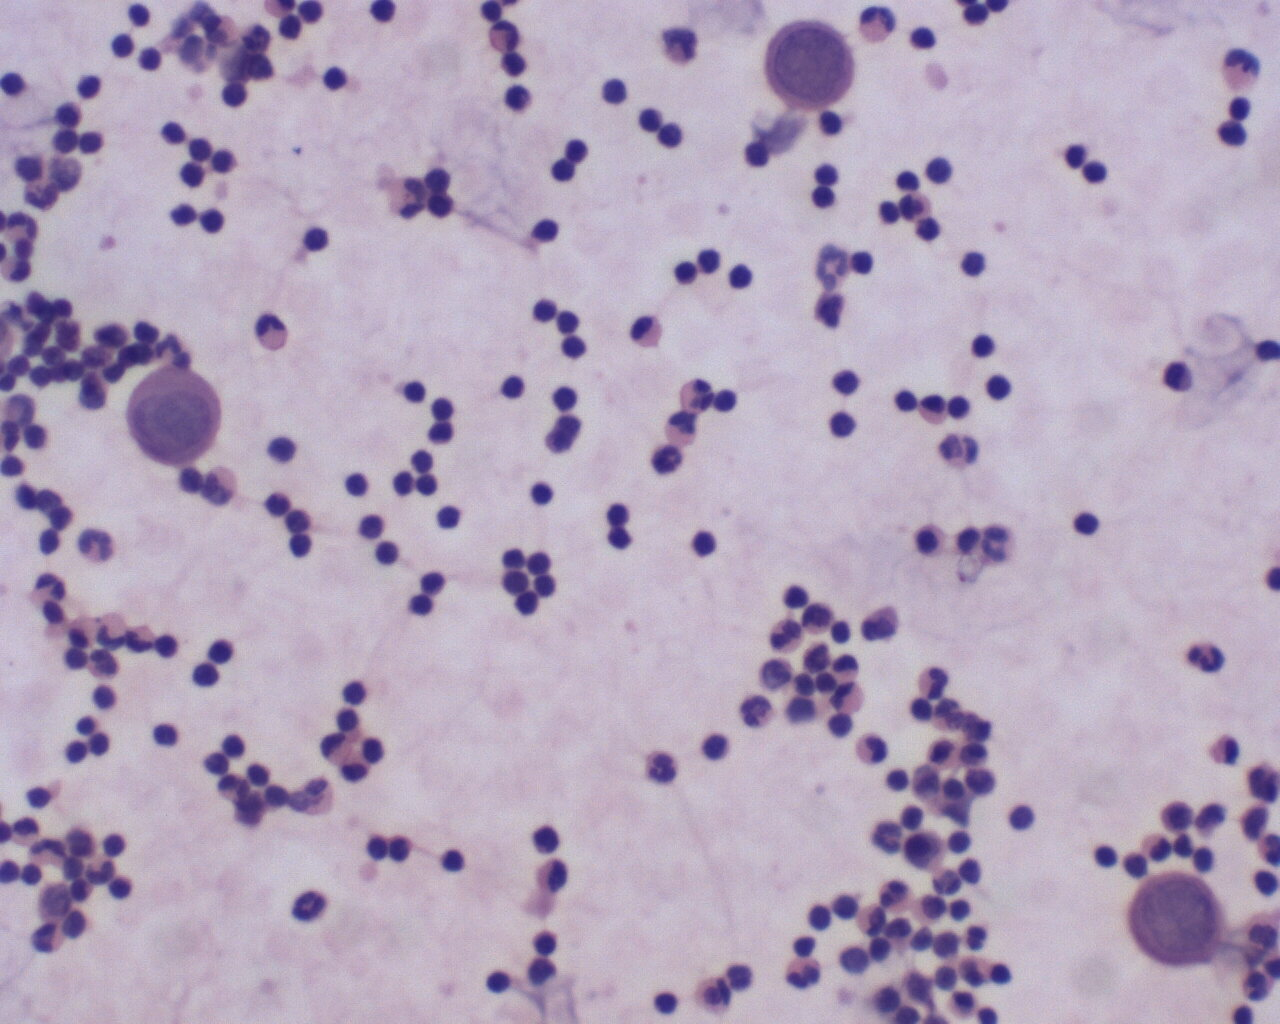ab: (1120, 870, 1229, 972), (126, 366, 228, 471), (760, 16, 854, 111)
lymph: (299, 222, 341, 263), (829, 362, 867, 402), (523, 475, 561, 516), (954, 247, 991, 286), (312, 59, 351, 95), (187, 658, 226, 695), (369, 535, 408, 571), (527, 216, 566, 251), (1003, 796, 1039, 834), (963, 329, 1000, 365), (1071, 507, 1104, 541), (598, 75, 633, 108), (399, 378, 436, 409), (485, 965, 516, 1000), (689, 527, 719, 559)
neutro: (850, 3, 902, 49), (639, 741, 684, 789), (1180, 636, 1229, 680), (249, 312, 294, 355), (288, 889, 333, 929), (915, 659, 954, 705), (673, 374, 716, 412)
